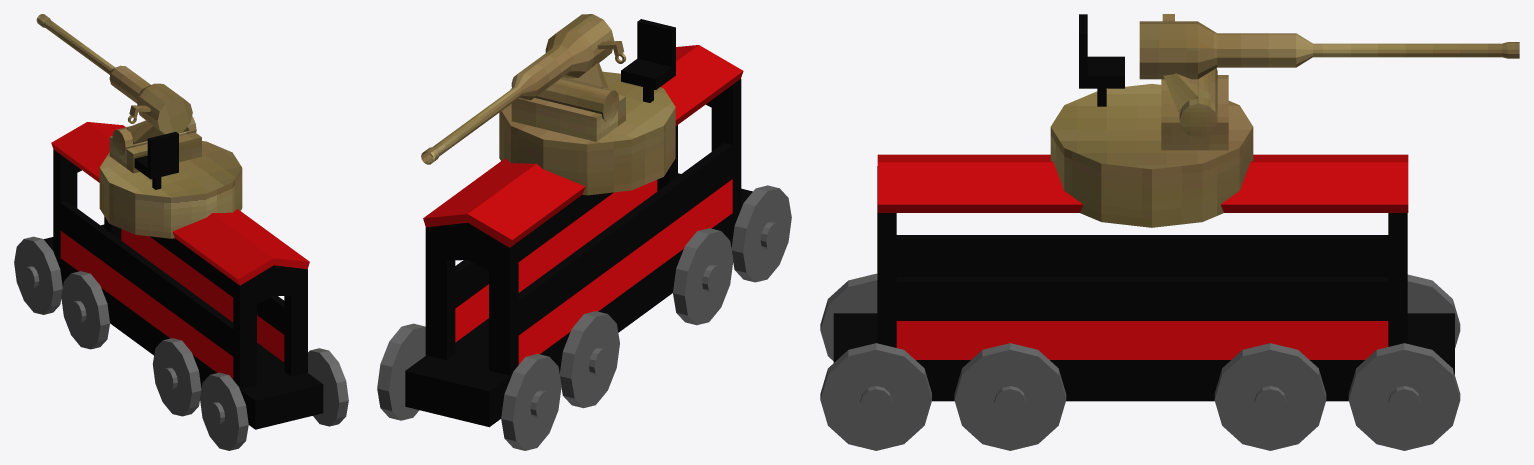
The model's file is guncar.glb.
The picture shows the model from 3 angles, left to right: view 1: azimuth 30°, elevation 25°; view 2: azimuth 150°, elevation 25°; view 3: azimuth 270°, elevation 25°; orthographic projection. The views are drawn at different scales.
Visible parts, largest first — view 1: BaseCarSides.002, TurretBase, BaseCarFrontWheels.002, BaseCarBase.002, BaseCarFront.002, BaseCarBackWheels.002, BaseCarTop.003, Gun, BaseCarTop.002, BaseCarBack.002, GunSeat, GunBase (+2 smaller); view 2: BaseCarSides.002, BaseCarBackWheels.002, TurretBase, BaseCarBase.002, BaseCarBack.002, BaseCarFrontWheels.002, BaseCarTop.002, Gun, BaseCarTop.003, GunBase, BaseCarFront.002, GunSeat (+2 smaller); view 3: BaseCarSides.002, BaseCarFrontWheels.002, BaseCarBackWheels.002, TurretBase, BaseCarBase.002, BaseCarTop.003, Gun, BaseCarTop.002, BaseCarFront.002, GunBase, BaseCarBack.002, GunSeat (+2 smaller).
Part boxes in pixels (bbox=[...]): BaseCarSides.002: bbox=[60, 201, 284, 379]; TurretBase: bbox=[99, 141, 242, 238]; BaseCarFrontWheels.002: bbox=[152, 338, 348, 450]; BaseCarBase.002: bbox=[43, 224, 323, 429]; BaseCarFront.002: bbox=[233, 265, 307, 388]; BaseCarBackWheels.002: bbox=[14, 236, 109, 349]; BaseCarTop.003: bbox=[172, 209, 309, 285]; Gun: bbox=[36, 14, 192, 134]; BaseCarTop.002: bbox=[51, 122, 125, 182]; BaseCarBack.002: bbox=[53, 149, 121, 257]; GunSeat: bbox=[134, 132, 178, 179]; GunBase: bbox=[109, 132, 201, 173]; BaseCarSides.002: bbox=[455, 143, 732, 364]; BaseCarBackWheels.002: bbox=[377, 311, 619, 450]; TurretBase: bbox=[499, 71, 675, 195]; BaseCarBase.002: bbox=[405, 173, 752, 427]; BaseCarBack.002: bbox=[425, 222, 518, 375]; BaseCarFrontWheels.002: bbox=[673, 185, 791, 325]; BaseCarTop.002: bbox=[423, 158, 585, 247]; Gun: bbox=[421, 14, 624, 164]; BaseCarTop.003: bbox=[661, 45, 743, 125]; GunBase: bbox=[511, 94, 625, 141]; BaseCarFront.002: bbox=[657, 79, 741, 212]; GunSeat: bbox=[621, 19, 675, 89]; BaseCarSides.002: bbox=[896, 235, 1388, 359]; BaseCarFrontWheels.002: bbox=[820, 273, 1066, 450]; BaseCarBackWheels.002: bbox=[1214, 274, 1460, 450]; TurretBase: bbox=[1050, 84, 1253, 227]; BaseCarBase.002: bbox=[833, 313, 1454, 401]; BaseCarTop.003: bbox=[877, 154, 1083, 212]; Gun: bbox=[1139, 14, 1519, 79]; BaseCarTop.002: bbox=[1220, 154, 1408, 212]; BaseCarFront.002: bbox=[877, 166, 896, 347]; GunBase: bbox=[1161, 75, 1228, 150]; BaseCarBack.002: bbox=[1388, 213, 1407, 346]; GunSeat: bbox=[1079, 14, 1124, 88].
Size of the model in its own units: 3.75 by 7.59 by 12.52.
5 materials, 3 textured.
